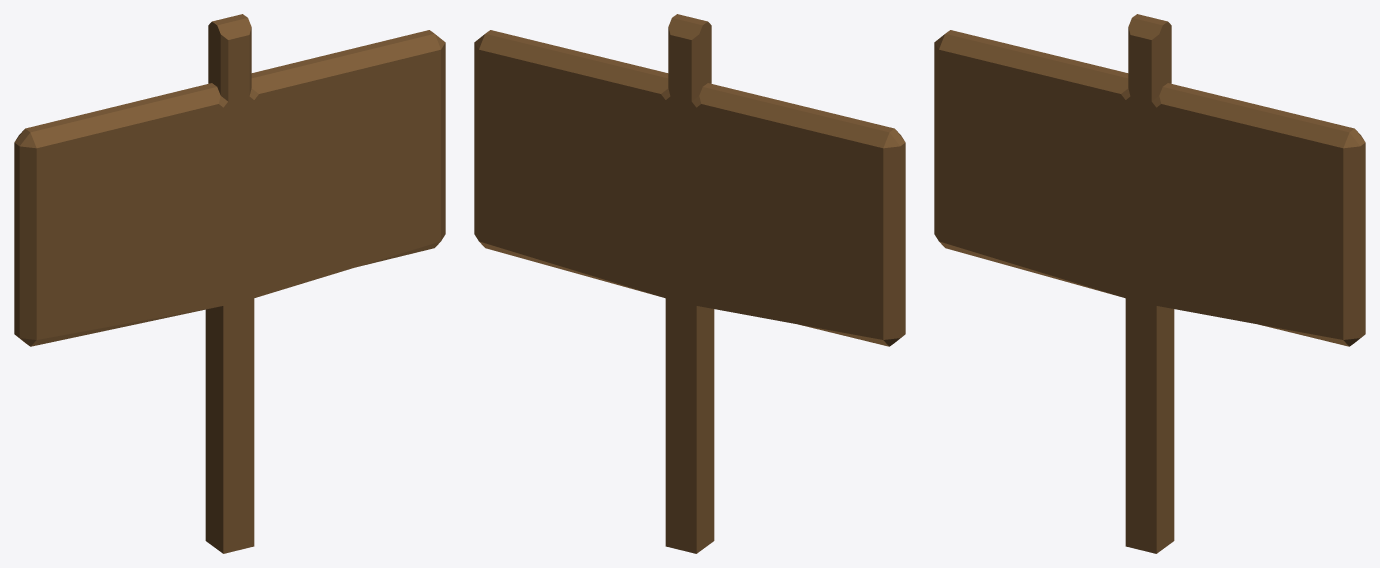
File: Placa1.fbx
3 views of the same model, side by side, from view 1: azimuth 30°, elevation 25°; view 2: azimuth 150°, elevation 25°; view 3: azimuth 330°, elevation 25° (orthographic).
Parts seen in each view (by area): view 1: Placa-1; view 2: Placa-1; view 3: Placa-1.
Boxes of the visible parts, bbox=[...] form: Placa-1: bbox=[14, 14, 445, 553]; Placa-1: bbox=[474, 14, 905, 553]; Placa-1: bbox=[934, 14, 1365, 553].
Size of the model in its own units: 96.73 by 114 by 7.
